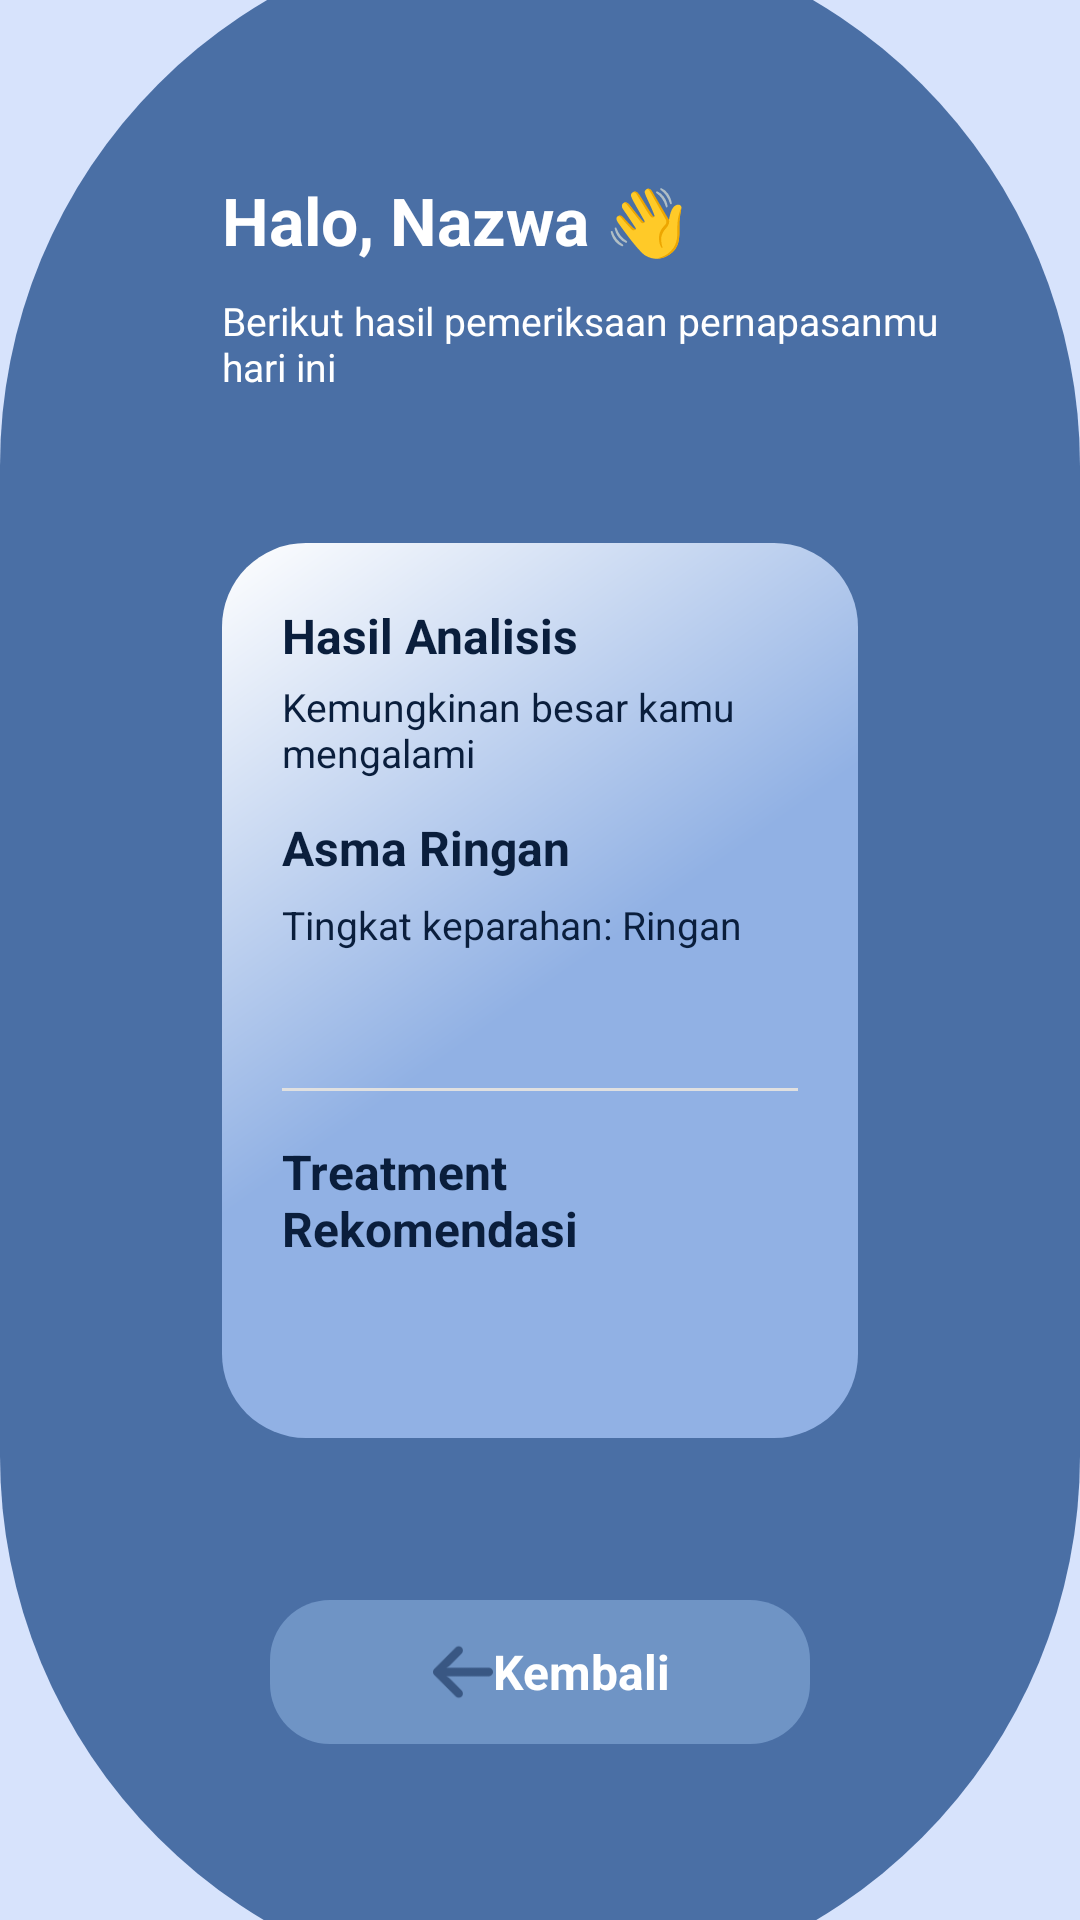

Named icons in this screenshot (1080w x 1920h) and their bounding boxes, bbox=(x1, y1, x2, y2):
left arrow: bbox=(433, 1646, 493, 1698)
